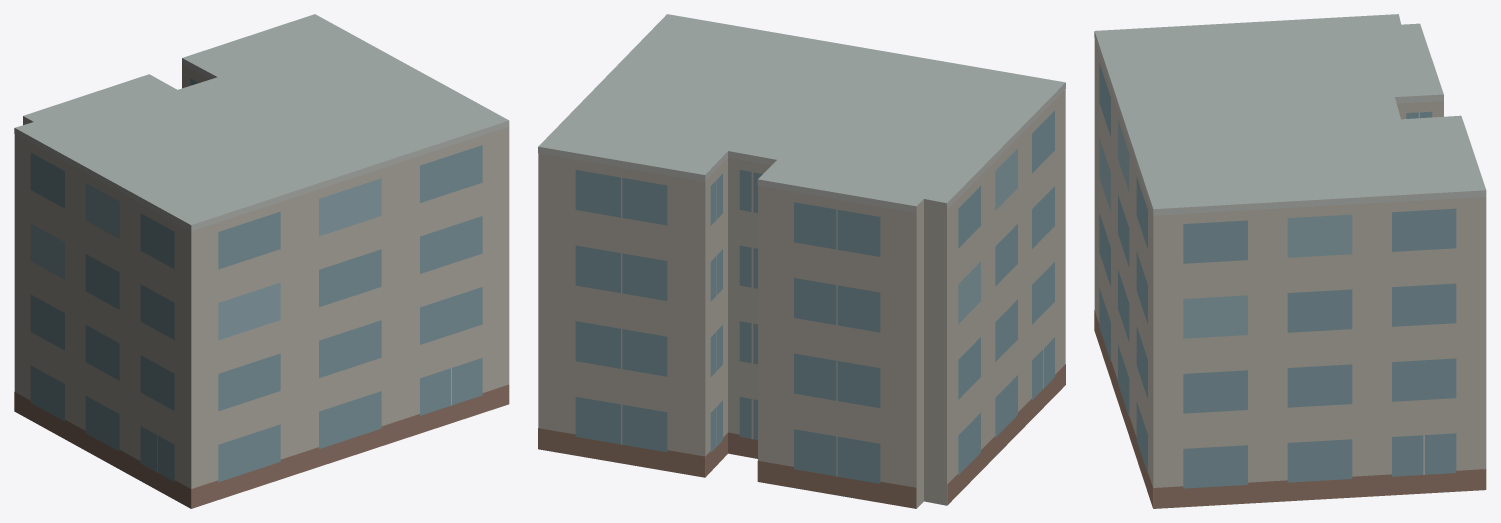
The model's file is survey-upis-32577201.glb.
3 views of the same model, side by side, from view 1: azimuth 30°, elevation 25°; view 2: azimuth 150°, elevation 25°; view 3: azimuth 270°, elevation 25° (orthographic). The views are drawn at different scales.
Parts seen in each view (by area): view 1: survey-upis-32577201.tmp; view 2: survey-upis-32577201.tmp; view 3: survey-upis-32577201.tmp.
Part boxes in pixels (x1=…): survey-upis-32577201.tmp: x1=14, y1=14, x2=509, y2=508; survey-upis-32577201.tmp: x1=538, y1=14, x2=1065, y2=508; survey-upis-32577201.tmp: x1=1094, y1=14, x2=1486, y2=508.
Size of the model in its own units: 15.79 by 11.3 by 13.4.
